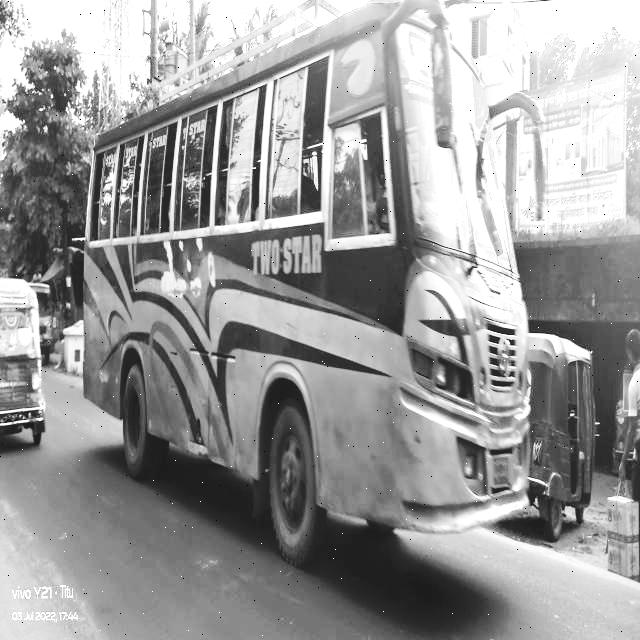Bus: (73, 0, 555, 569)
